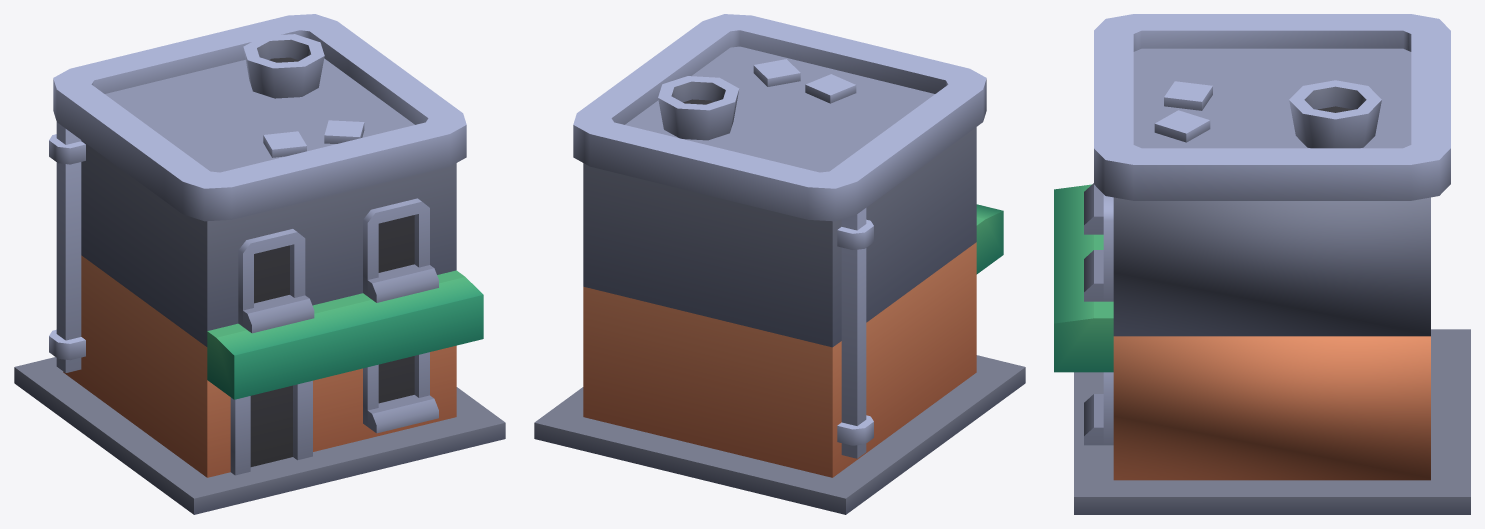
Rendered from building.glb.
3 renders of one model, left to right at view 1: azimuth 30°, elevation 25°; view 2: azimuth 150°, elevation 25°; view 3: azimuth 270°, elevation 25°, orthographic. The views are drawn at different scales.
Parts seen in each view (by area): view 1: building-small-d; view 2: building-small-d; view 3: building-small-d.
Part boxes in pixels (x1,y1,x2,y2): building-small-d: (14, 14, 505, 514); building-small-d: (534, 14, 1025, 514); building-small-d: (1054, 14, 1470, 514).
Size of the model in its own units: 1 by 1 by 1.05.
Materials: 1 (1 with a texture image).
